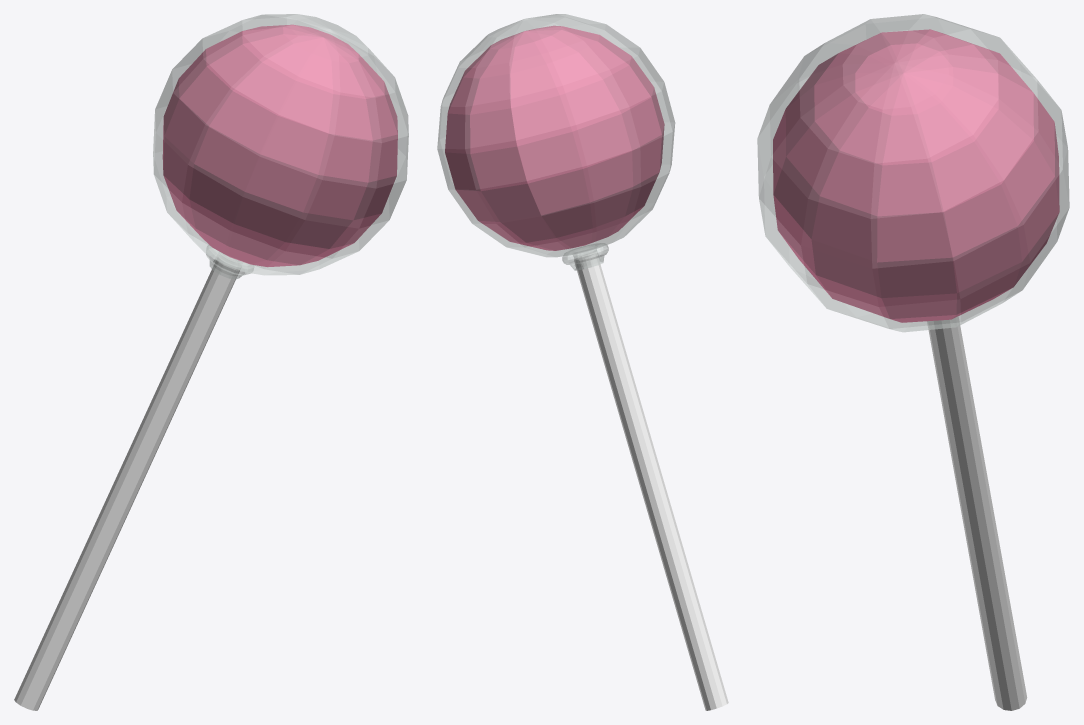
File: lolipop-by-ashley-alicea-cbNM5UCk1Ue.glb
3 views of the same model, side by side, from view 1: azimuth 30°, elevation 25°; view 2: azimuth 150°, elevation 25°; view 3: azimuth 270°, elevation 25° (orthographic). The views are drawn at different scales.
Visible parts, largest first — view 1: group961650808; view 2: group961650808; view 3: group961650808.
Boxes of the visible parts, x1,y1,x2,y2 form: group961650808: [14, 14, 408, 710]; group961650808: [437, 14, 728, 710]; group961650808: [757, 14, 1069, 710].
Bounding box in the file's own units: 0.1905 × 0.3588 × 0.1262.
